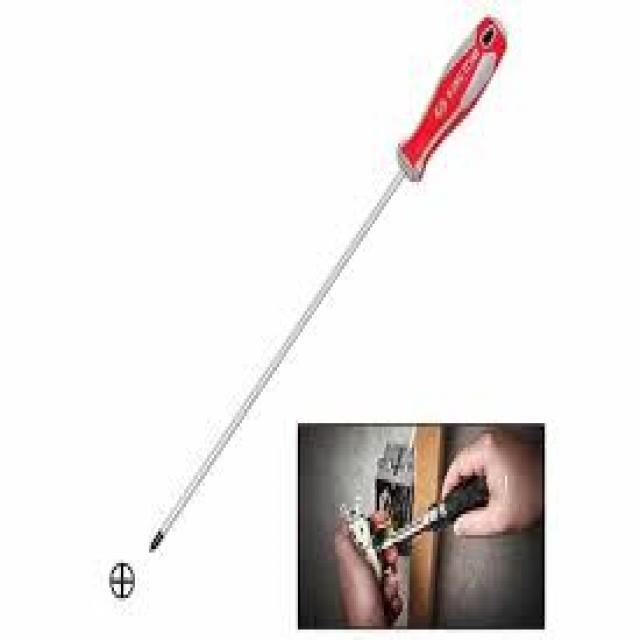screwdriver: (143, 12, 511, 554), (372, 467, 498, 558)
